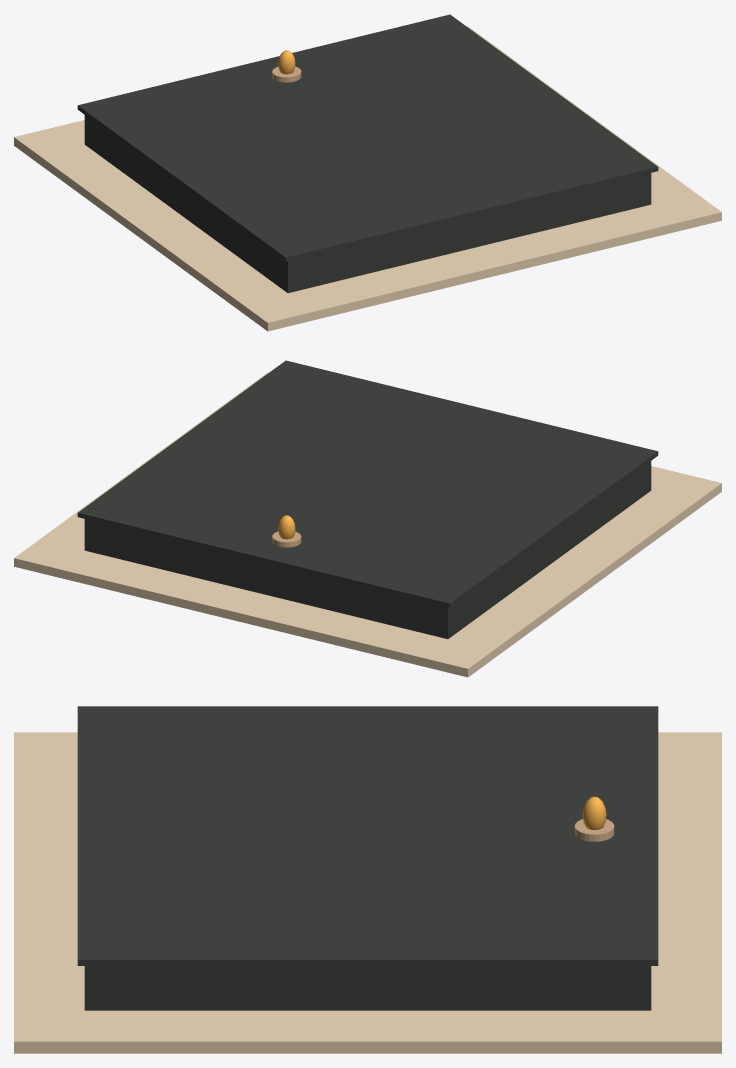
Rendered from raj-ghat.glb.
3 views of the same model, one above another, from view 1: azimuth 30°, elevation 25°; view 2: azimuth 150°, elevation 25°; view 3: azimuth 270°, elevation 25° (orthographic). The views are drawn at different scales.
Parts seen in each view (by area): view 1: NCR_raj-ghat; view 2: NCR_raj-ghat; view 3: NCR_raj-ghat.
Part boxes in pixels (left/top/right/bottom): NCR_raj-ghat: left=14, top=14, right=721, bottom=331; NCR_raj-ghat: left=14, top=360, right=721, bottom=677; NCR_raj-ghat: left=14, top=706, right=721, bottom=1053.
Bounding box in the file's own units: 9.78 × 1.5 × 9.47.
